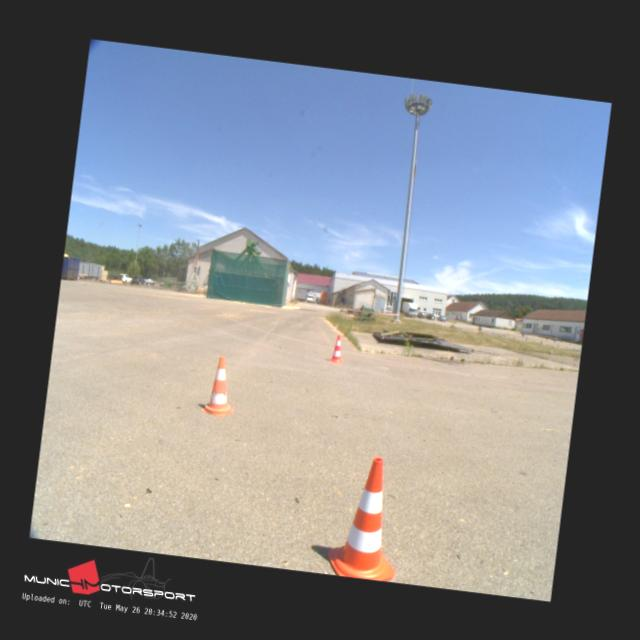large_orange_cone: (326, 454, 408, 581), (200, 354, 240, 416), (328, 334, 344, 362)
